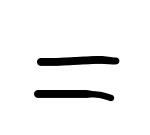eqv: (25, 52, 127, 108)
